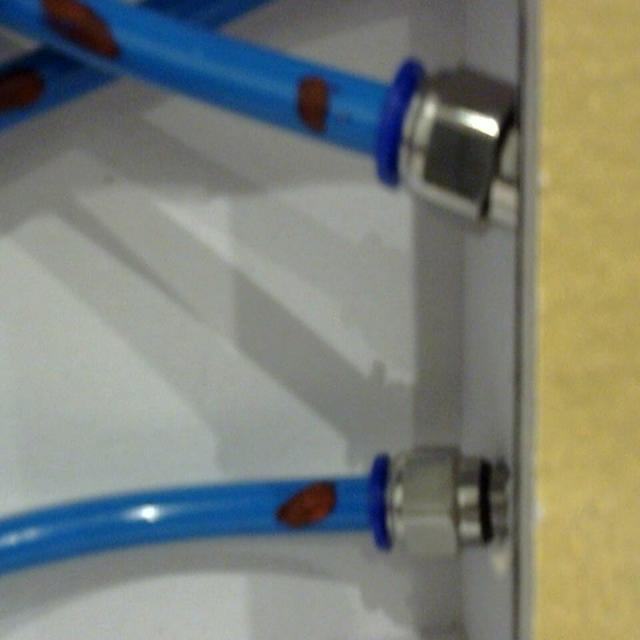hose_damage: (262, 464, 350, 540), (36, 2, 130, 64), (284, 66, 336, 143), (4, 54, 46, 120)
